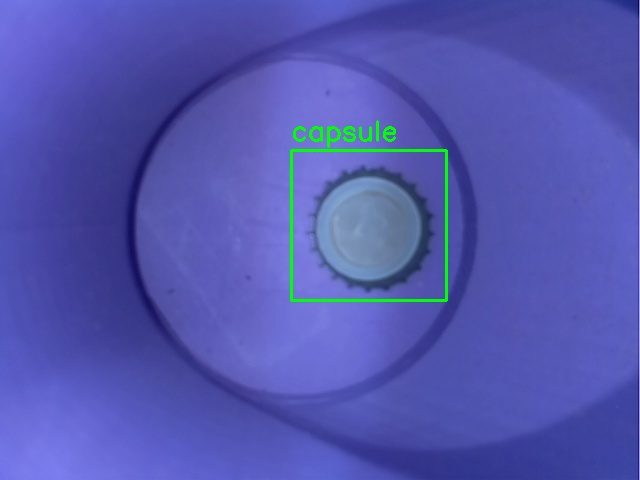capsule: (291, 150, 446, 300)
